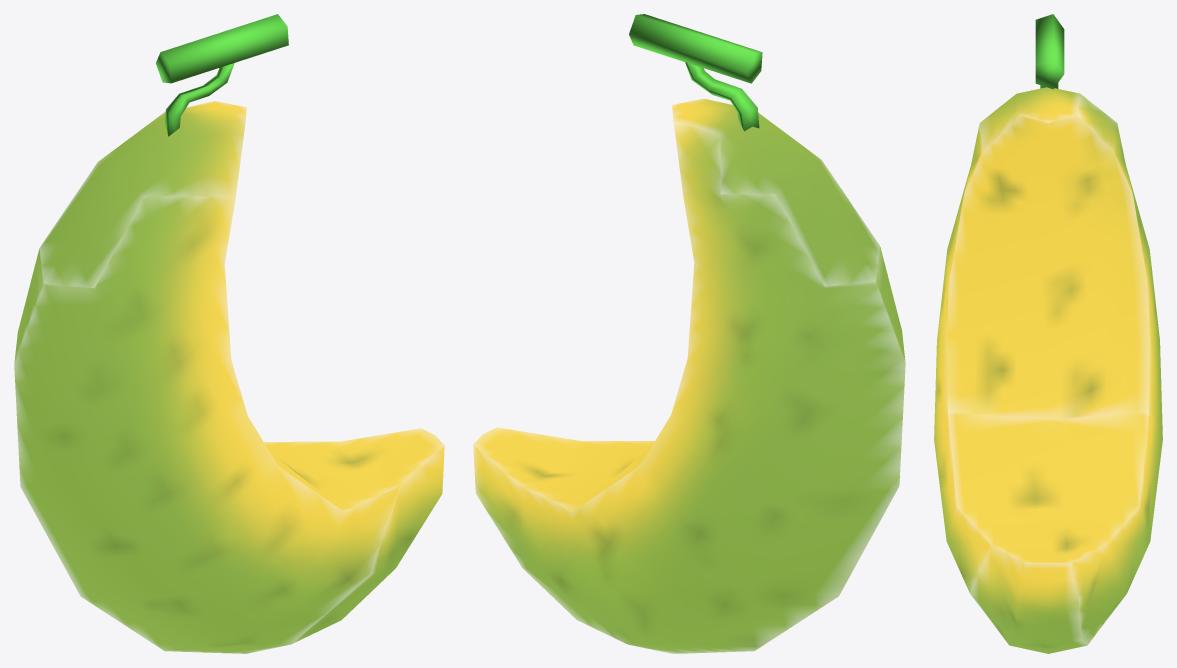
Rendered from Meloon.fbx.
3 renders of one model, left to right at view 1: azimuth 30°, elevation 25°; view 2: azimuth 150°, elevation 25°; view 3: azimuth 270°, elevation 25°, orthographic. The views are drawn at different scales.
Visible parts, largest first — view 1: Meloon; view 2: Meloon; view 3: Meloon.
Boxes of the visible parts, <box> form: Meloon: <box>14,14,444,653</box>; Meloon: <box>473,14,905,653</box>; Meloon: <box>934,14,1162,653</box>.
Bounding box in the file's own units: 0.638 × 1.83 × 1.28.
